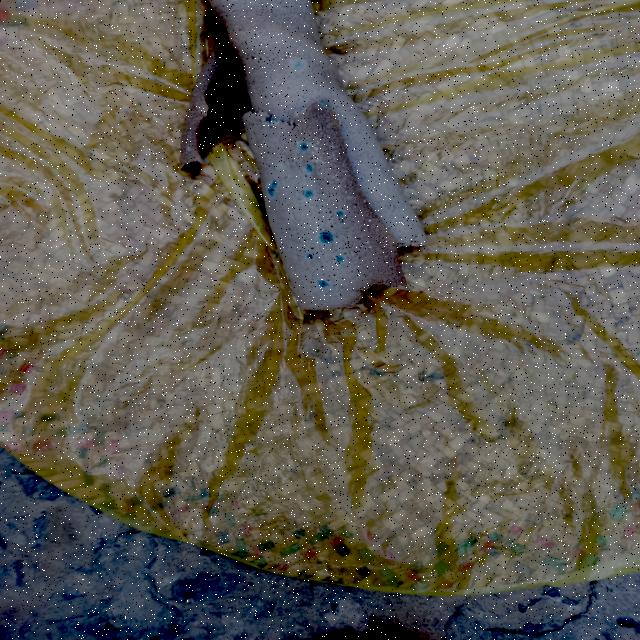injera_mold: (314, 228, 338, 246), (266, 179, 280, 198), (313, 98, 333, 108), (331, 253, 347, 265), (264, 115, 280, 127), (299, 188, 316, 199), (296, 141, 313, 152), (292, 60, 304, 74), (303, 251, 318, 262), (302, 162, 315, 174), (334, 208, 345, 222), (316, 279, 330, 289), (274, 164, 286, 172), (183, 144, 194, 152), (293, 108, 303, 115), (363, 239, 372, 245), (328, 144, 338, 149), (348, 195, 353, 201), (341, 169, 348, 173), (359, 246, 366, 249), (368, 218, 373, 222), (316, 140, 318, 150), (368, 246, 372, 249), (298, 124, 300, 126)
